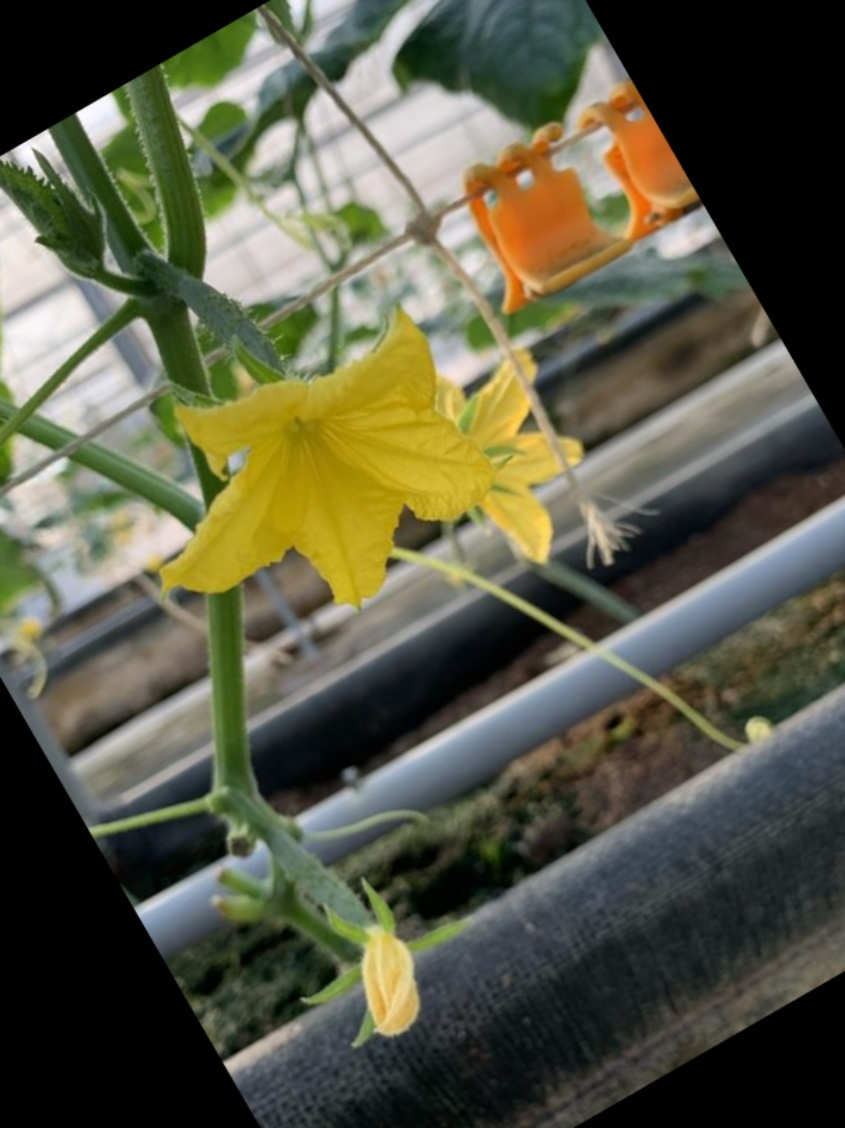flowering: (75, 271, 519, 619)
